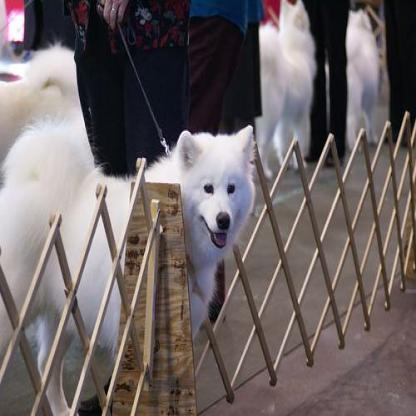Samoyed: (0, 107, 255, 397), (257, 0, 315, 176), (0, 42, 82, 161), (344, 8, 378, 148)
